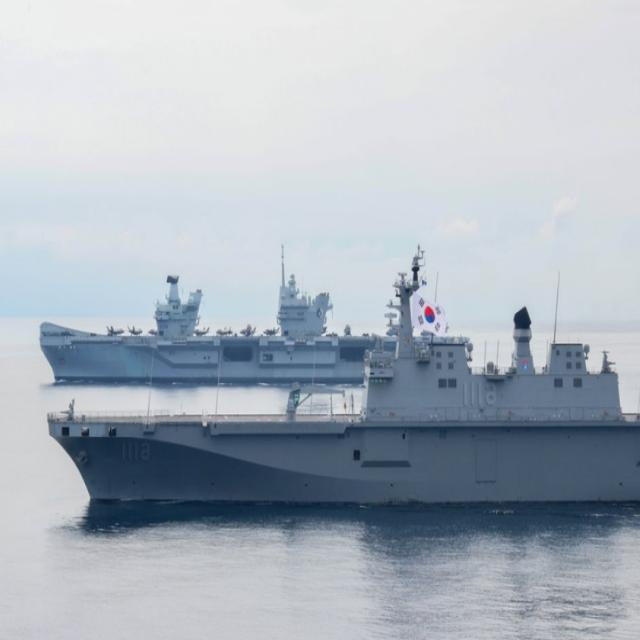navalvessels: (34, 263, 640, 522), (27, 210, 441, 395)
